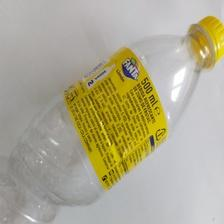BIODEGRADABLE: (14, 15, 224, 224)
